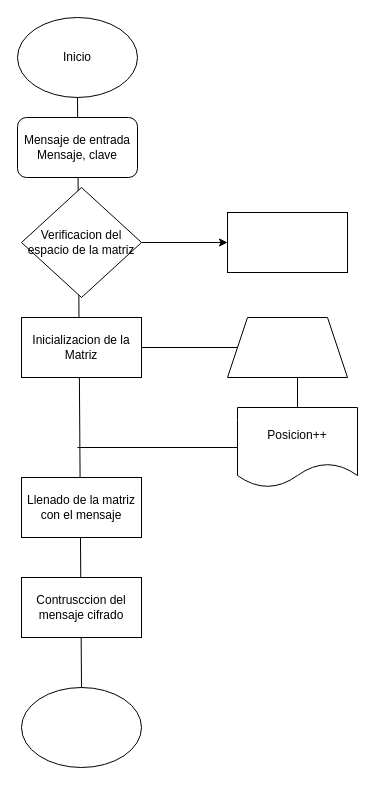
Image size: 375x785. Some labels were removed from this diagram. Each missing label, with the centre of its shape:
"Desde posicion N hasta clave" goes at [287,347].
"Error y fin" goes at [287,242].
"Fin" goes at [81,727].
